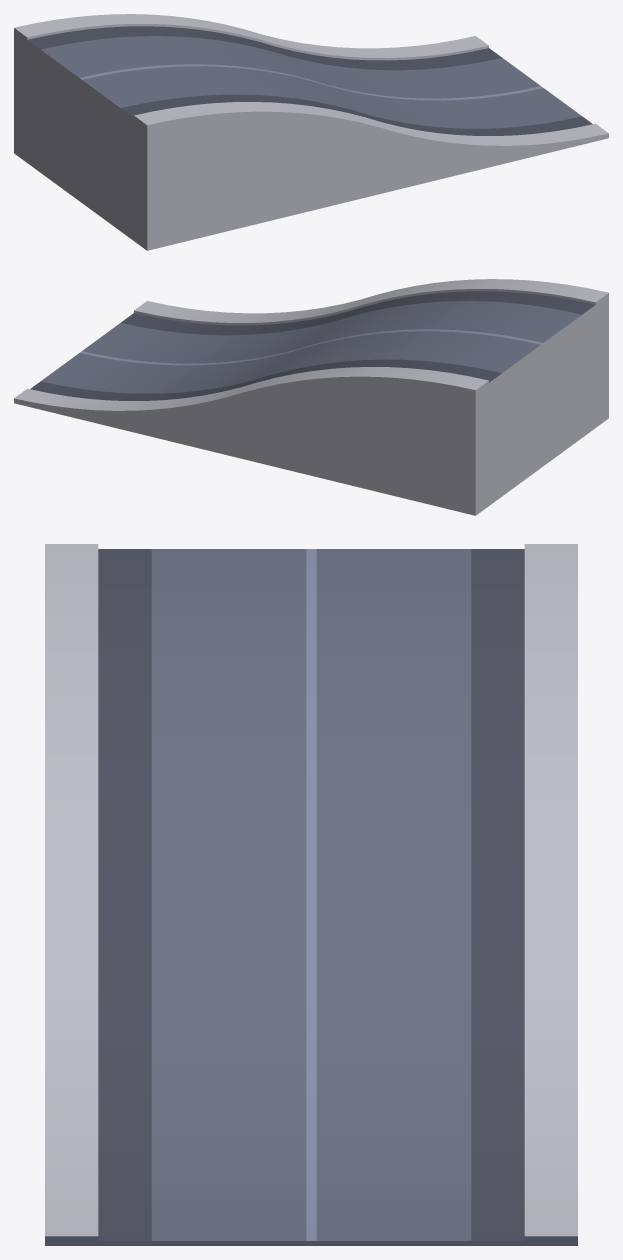
Rendered from Road Slant Curve.glb.
3 views of the same model, one above another, from view 1: azimuth 30°, elevation 25°; view 2: azimuth 150°, elevation 25°; view 3: azimuth 270°, elevation 25° (orthographic). The views are drawn at different scales.
Parts seen in each view (by area): view 1: road_slantCurve; view 2: road_slantCurve; view 3: road_slantCurve.
Part boxes in pixels (x1,y1,x2,y2): road_slantCurve: (14,14,608,250); road_slantCurve: (14,279,608,515); road_slantCurve: (45,544,577,1245).
Size of the model in its own units: 2 by 0.52 by 1.
